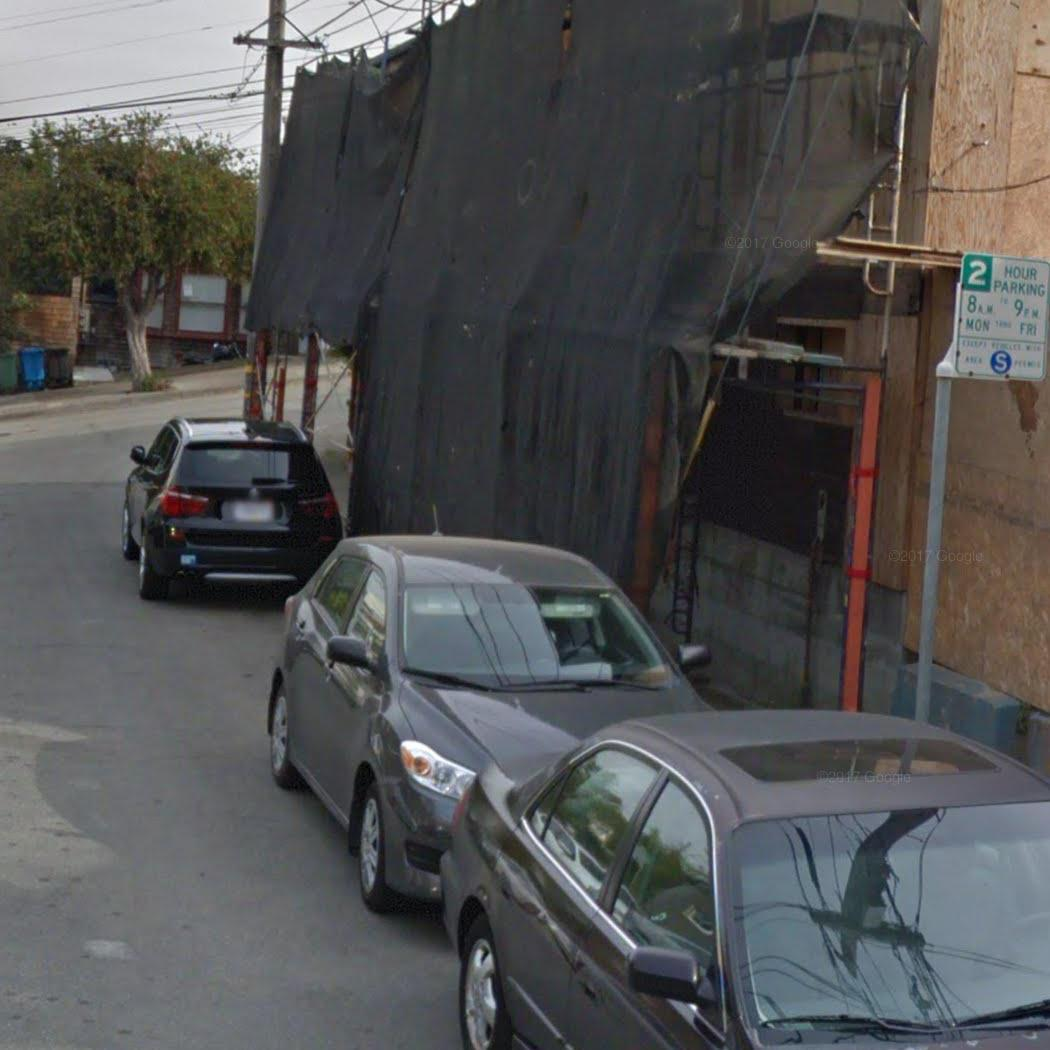2 Hour Parking: (945, 243, 1050, 387)
